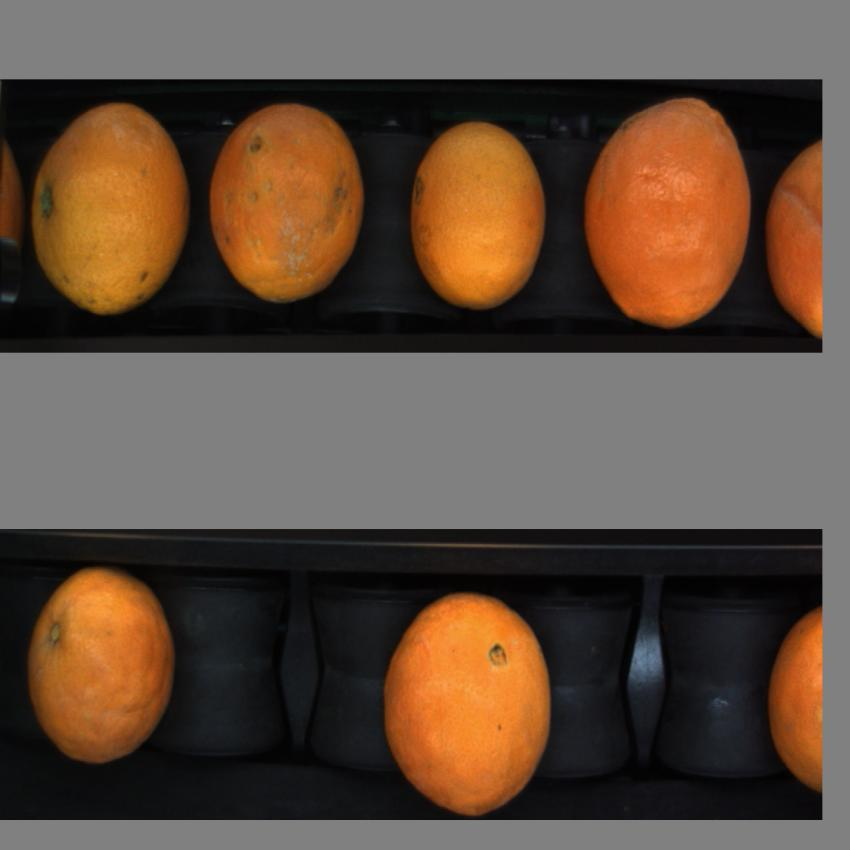Buen estado: (383, 591, 562, 815), (582, 105, 756, 331), (30, 100, 187, 316), (24, 572, 182, 773), (407, 126, 548, 305), (762, 597, 824, 790)
Mal estado: (207, 103, 368, 305), (767, 134, 821, 345)
